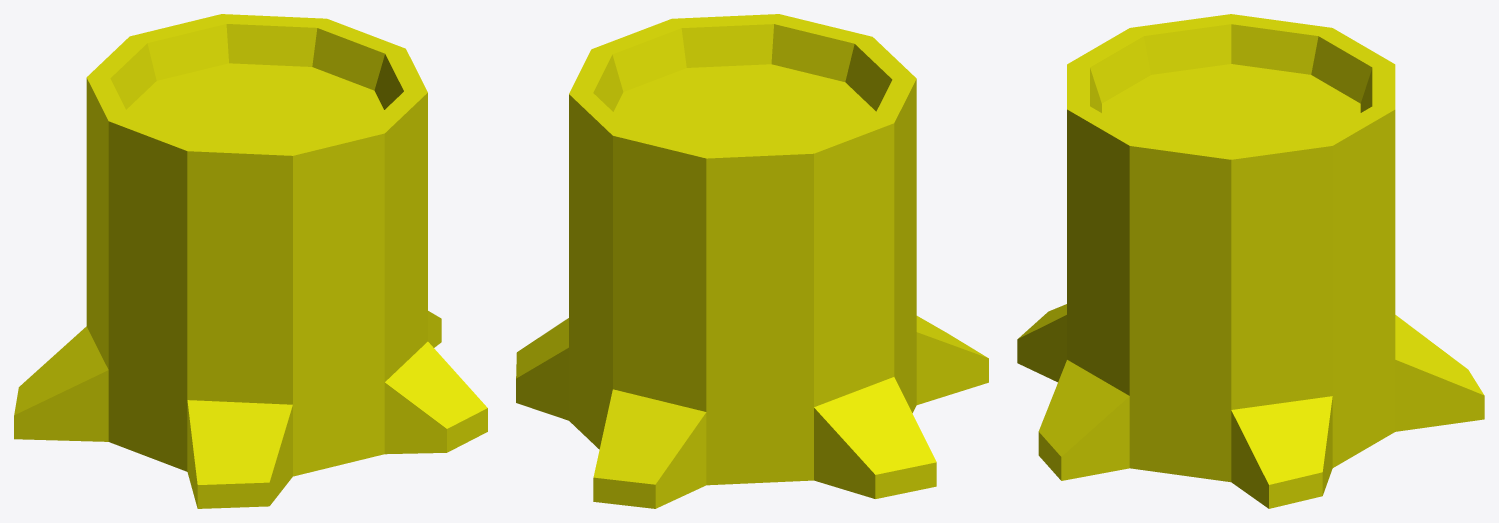
3 views of the same model, side by side, from view 1: azimuth 30°, elevation 25°; view 2: azimuth 150°, elevation 25°; view 3: azimuth 270°, elevation 25° (orthographic).
Parts seen in each view (by area): view 1: goccay; view 2: goccay; view 3: goccay.
Boxes of the visible parts, x1,y1,x2,y2 form: goccay: (14, 14, 487, 508); goccay: (516, 14, 988, 508); goccay: (1017, 14, 1484, 508).
Bounding box in the file's own units: 1.27 × 0.9291 × 1.22.
1 material, 1 textured.
